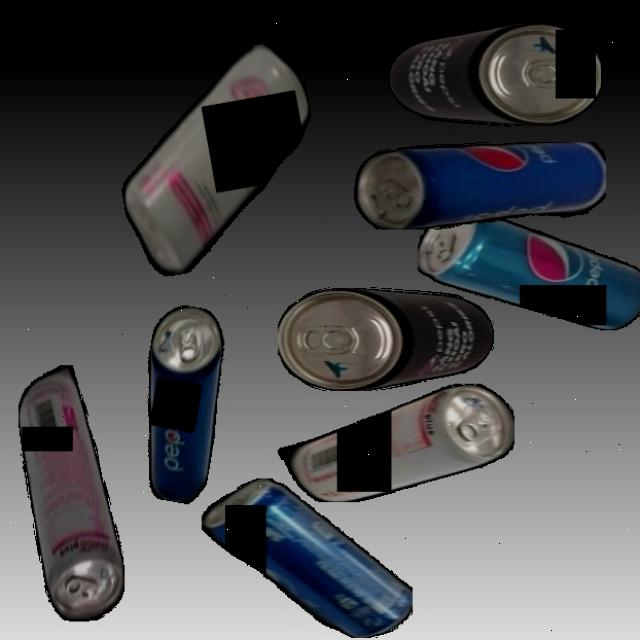debris: (102, 38, 333, 281), (200, 478, 412, 638), (277, 384, 514, 502), (18, 364, 124, 622), (416, 208, 640, 330), (278, 286, 494, 391), (126, 302, 236, 506), (354, 141, 606, 229), (388, 22, 601, 126)
